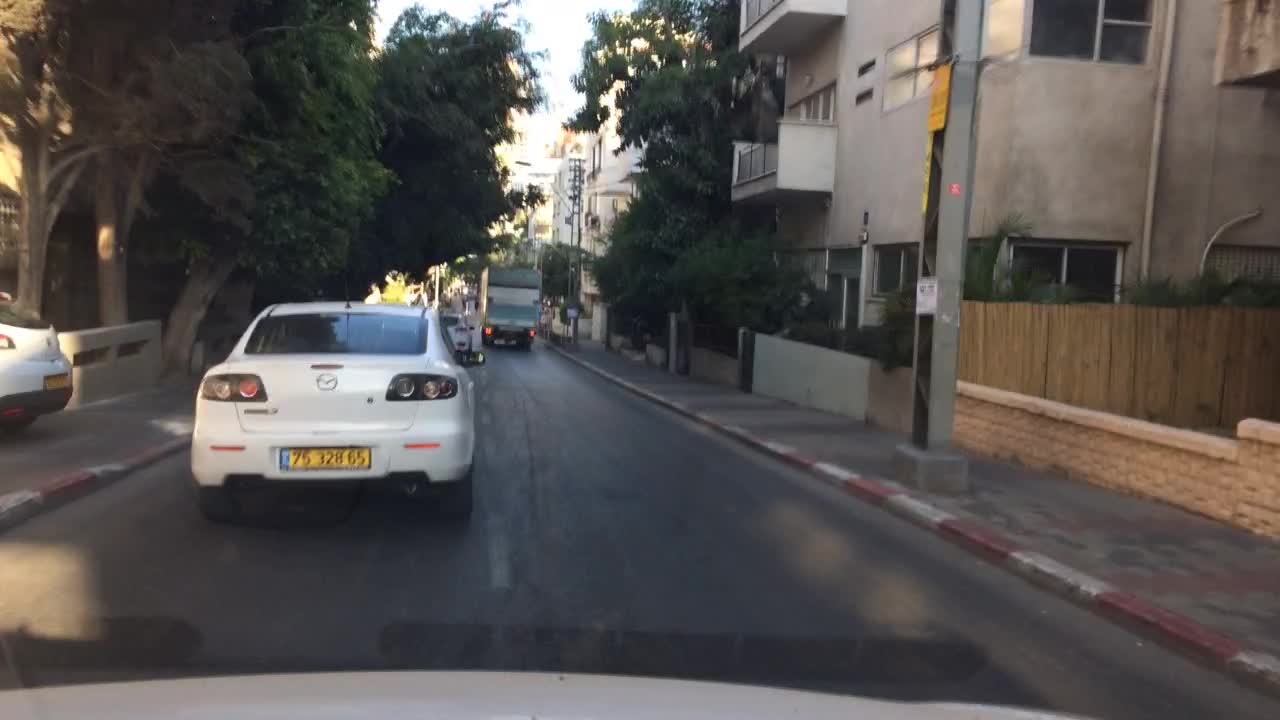car: (188, 266, 475, 521), (0, 290, 74, 438), (439, 308, 465, 350), (463, 299, 477, 329), (456, 326, 475, 344)
traffic sign: (541, 305, 552, 329), (565, 308, 579, 320)
truck: (478, 268, 541, 353)
